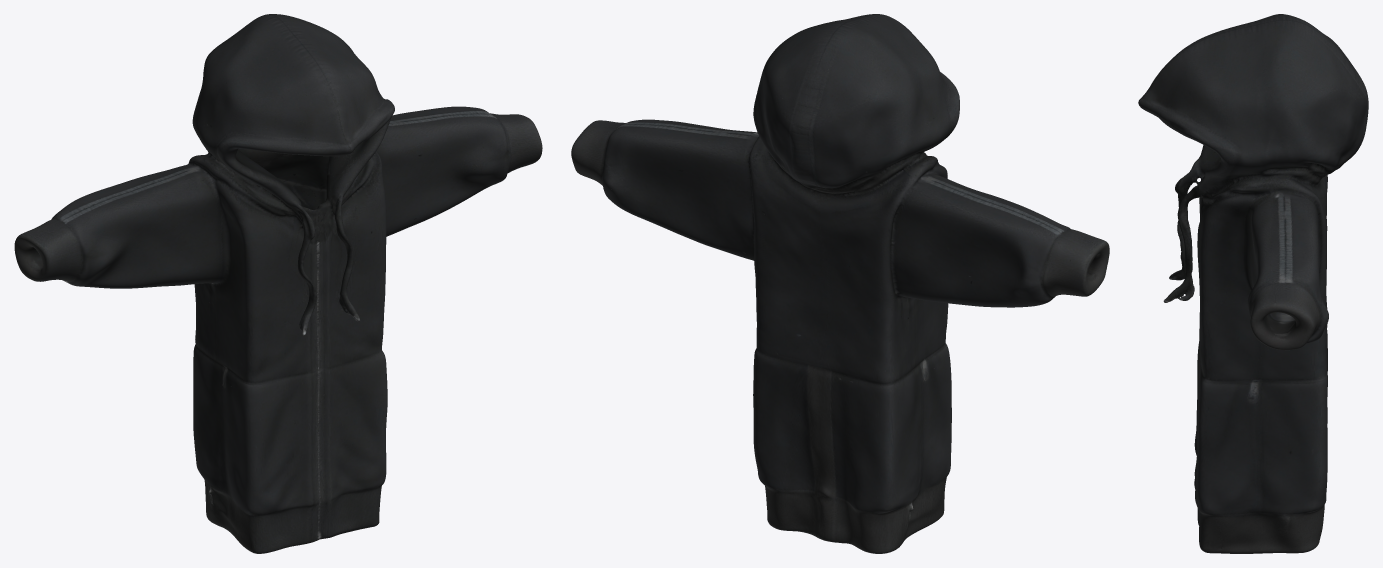
The model's file is Meshy_AI_Black_Zip_Hoodie_with_0809173452_texture.glb.
3 views of the same model, side by side, from view 1: azimuth 30°, elevation 25°; view 2: azimuth 150°, elevation 25°; view 3: azimuth 270°, elevation 25° (orthographic). The views are drawn at different scales.
Bounding box in the file's own units: 1.8 × 1.69 × 0.7003.
Materials: 1 (1 with a texture image).
